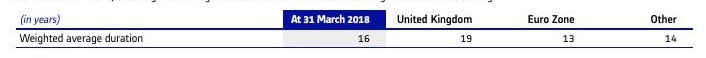table: (0, 0, 706, 58)
